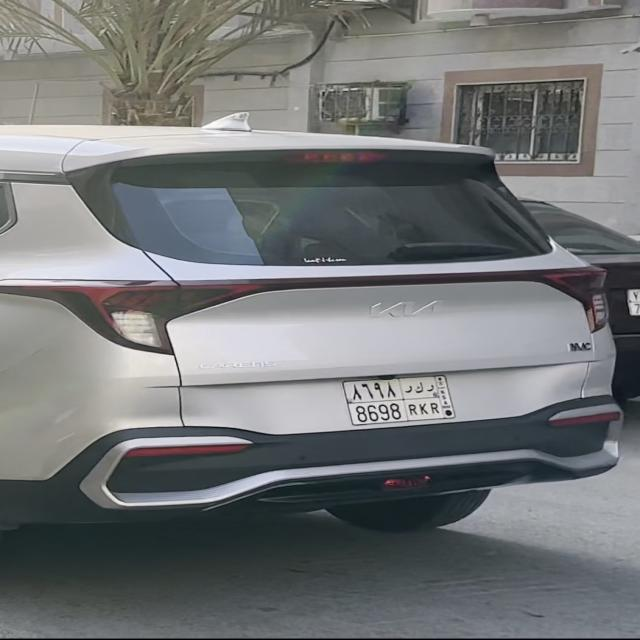Car-plate: (319, 366, 474, 429)
